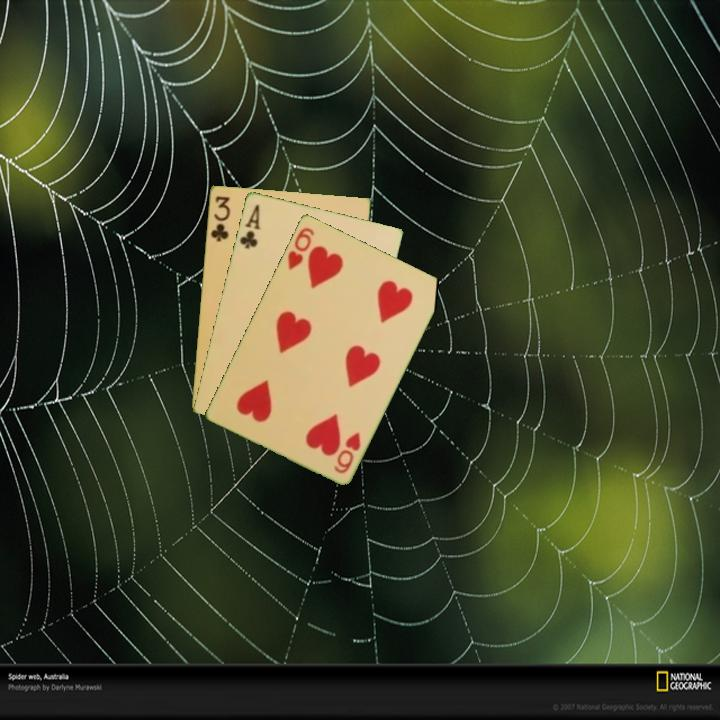3c: (207, 192, 233, 244)
6h: (284, 223, 317, 272), (330, 428, 363, 476)
Ac: (236, 201, 263, 251)
